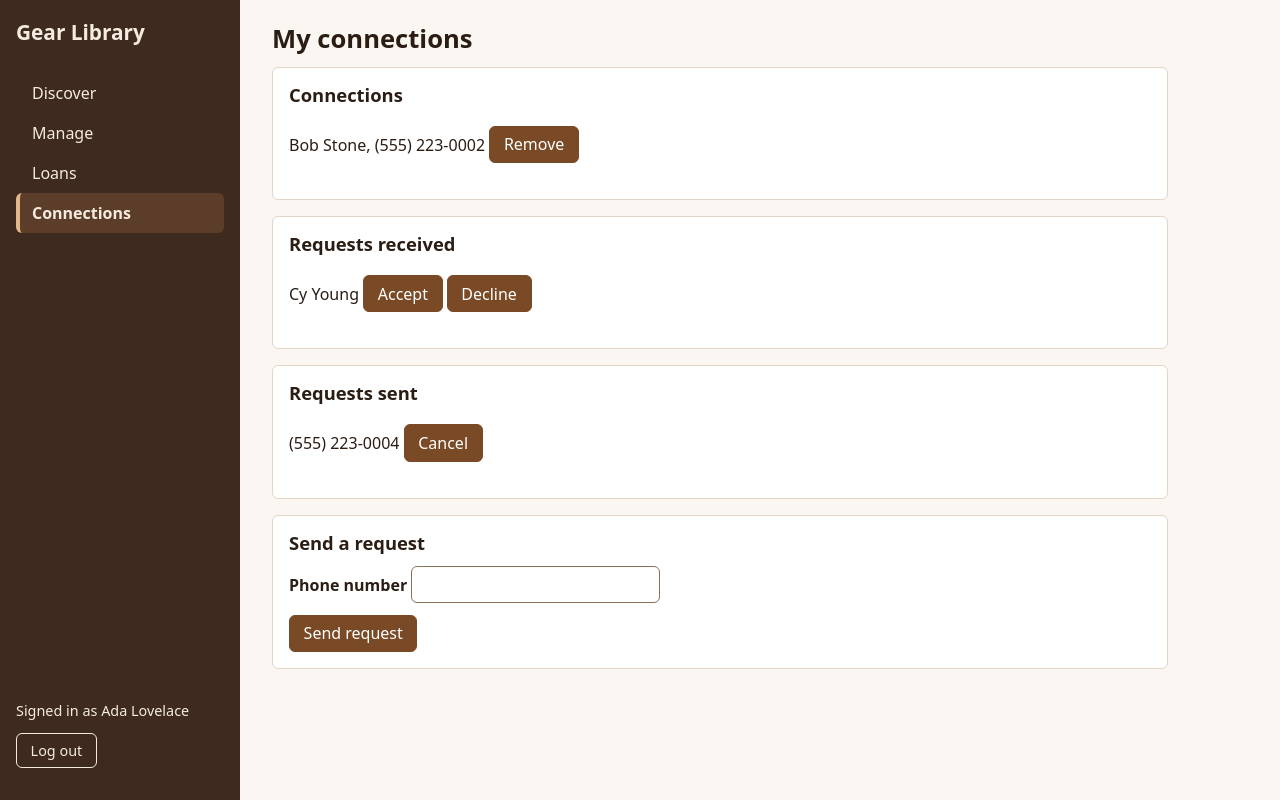
Scenario: removing a connection › asks first and removes only after confirming
Expected: the heading "My connections" is shown, top-left (272, 21), bottom-right (473, 56)
Click the button with aria-label "Remove Bob Stone". click: (534, 144)
box: top-left (489, 126), bottom-right (579, 163)
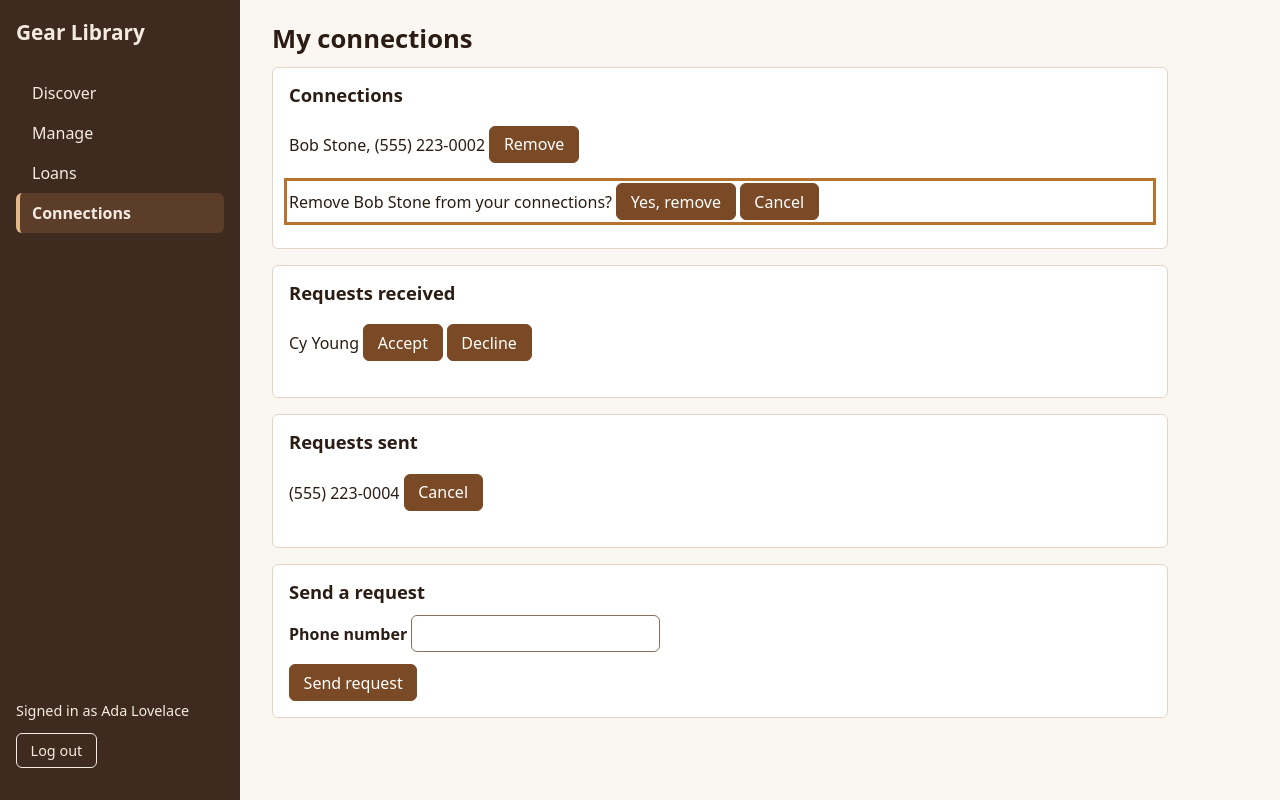
Click the button "Cancel" in the row of "Remove Bob Stone from your connections?". click: (779, 202)
box: top-left (740, 183), bottom-right (819, 220)
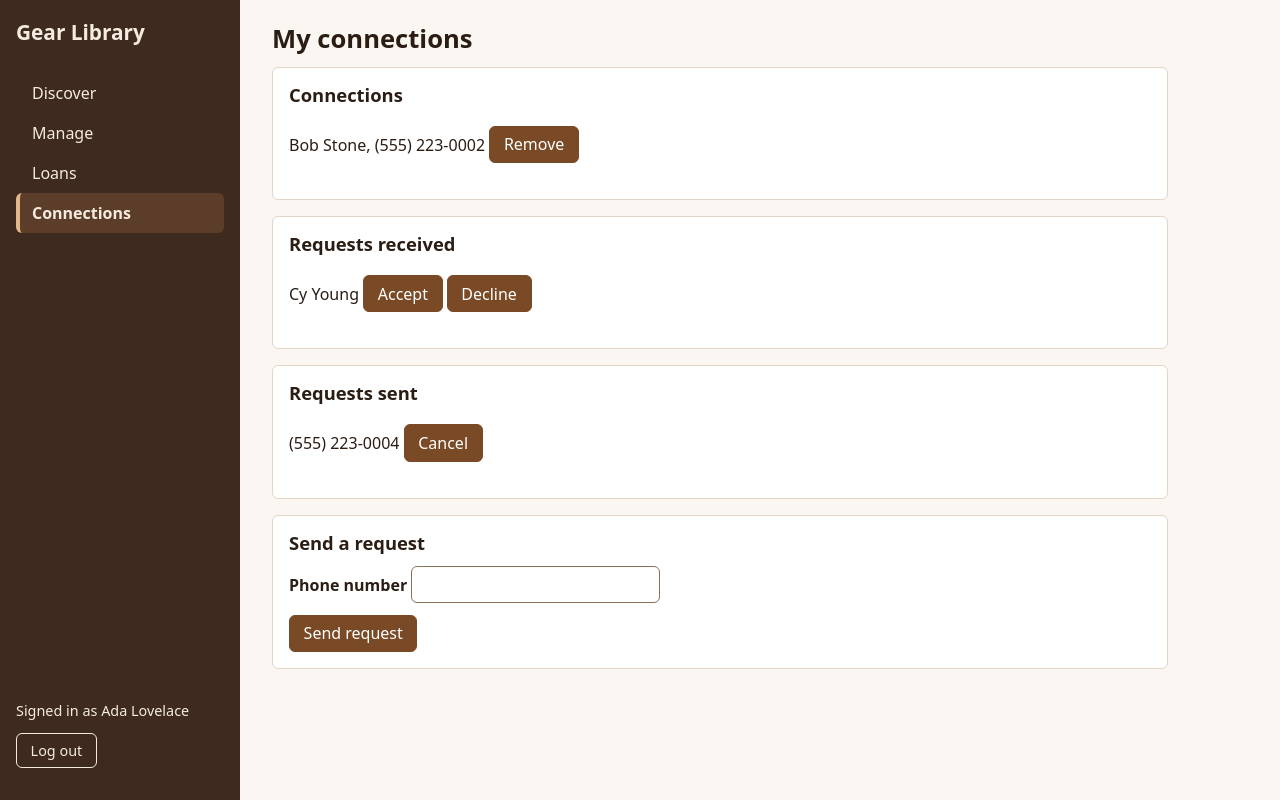
Click the button with aria-label "Remove Bob Stone". click: (534, 144)
box: top-left (489, 126), bottom-right (579, 163)
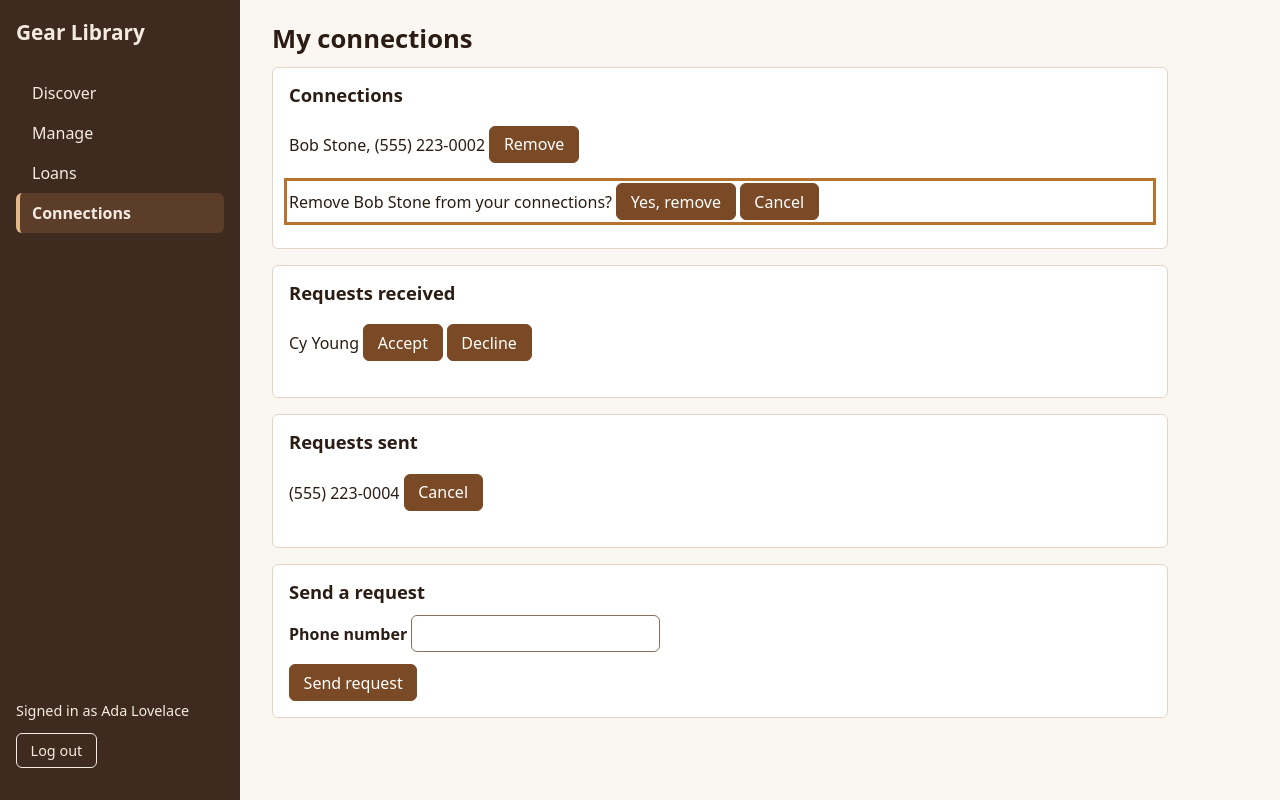
Click the button "Yes, remove". click: (676, 202)
box: top-left (616, 183), bottom-right (736, 220)
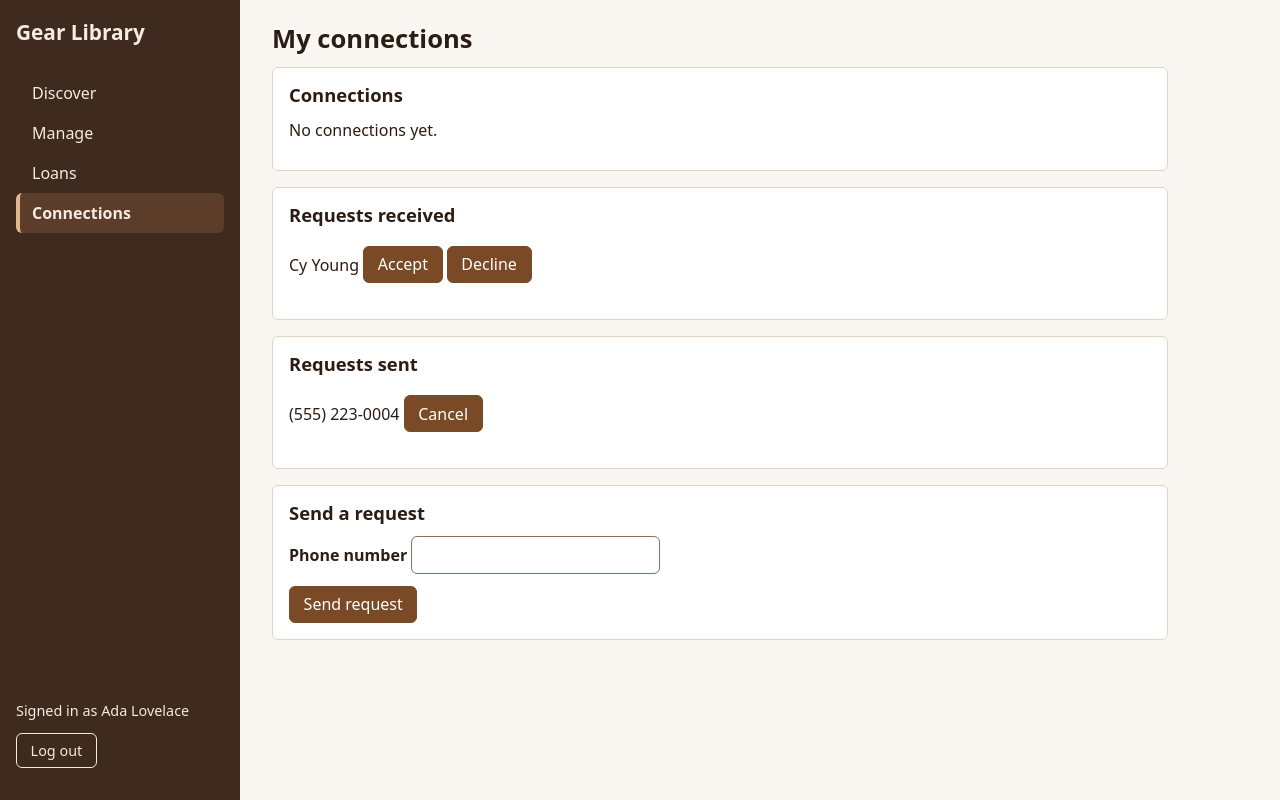
Expected: the text "No connections yet." is shown, top-left (289, 119), bottom-right (437, 141)
Expected: the text "from your connections?" is gone
